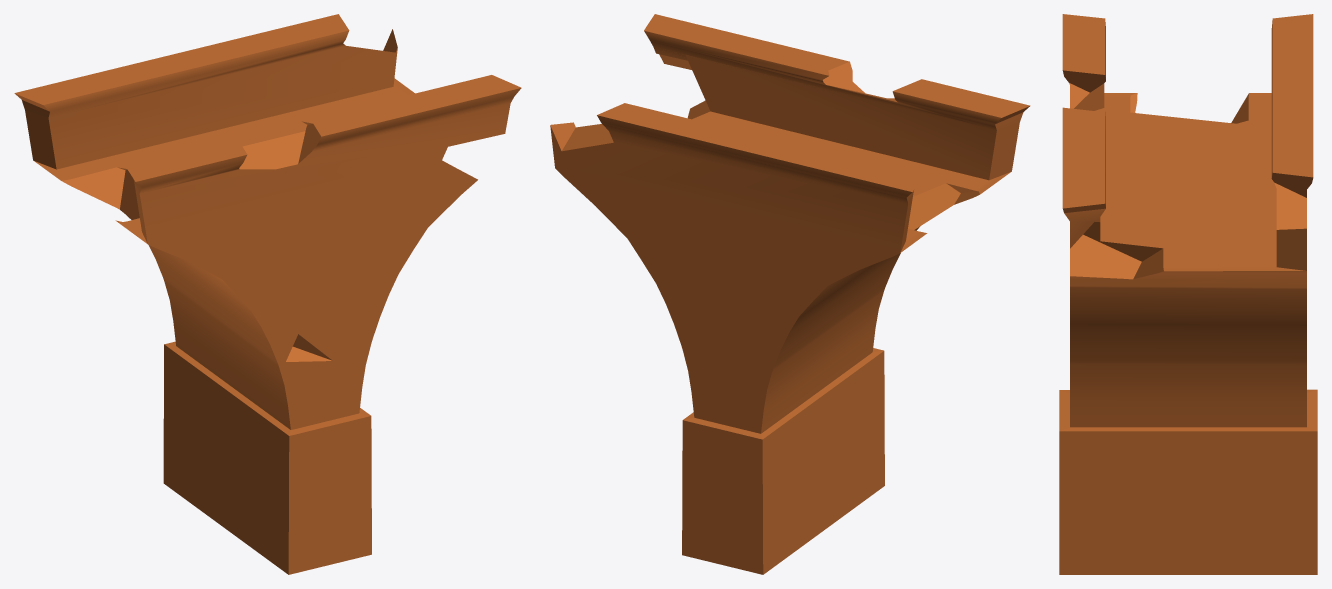
The model's file is old_bridge03.fbx.
3 views of the same model, side by side, from view 1: azimuth 30°, elevation 25°; view 2: azimuth 150°, elevation 25°; view 3: azimuth 270°, elevation 25° (orthographic). The views are drawn at different scales.
Parts seen in each view (by area): view 1: old_bridge03; view 2: old_bridge03; view 3: old_bridge03.
Part boxes in pixels (x1,y1,x2,y2): old_bridge03: (14, 14, 521, 574); old_bridge03: (550, 14, 1030, 574); old_bridge03: (1059, 14, 1317, 574).
Bounding box in the file's own units: 9.27 × 9.83 × 5.2.
